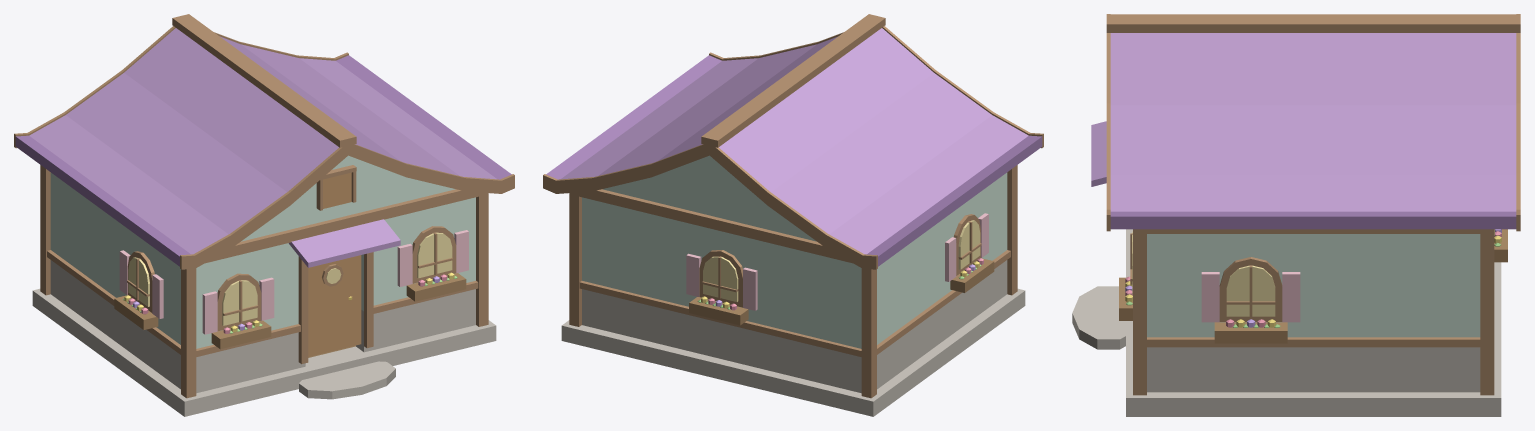
The model's file is farmhouse.glb.
3 views of the same model, side by side, from view 1: azimuth 30°, elevation 25°; view 2: azimuth 150°, elevation 25°; view 3: azimuth 270°, elevation 25° (orthographic). The views are drawn at different scales.
Parts seen in each view (by area): view 1: Player; view 2: Player; view 3: Player.
Part boxes in pixels (x1,y1,x2,y2): Player: (14, 14, 514, 416); Player: (543, 14, 1043, 416); Player: (1072, 14, 1520, 416).
Size of the model in its own units: 6.84 by 4.82 by 6.45.
